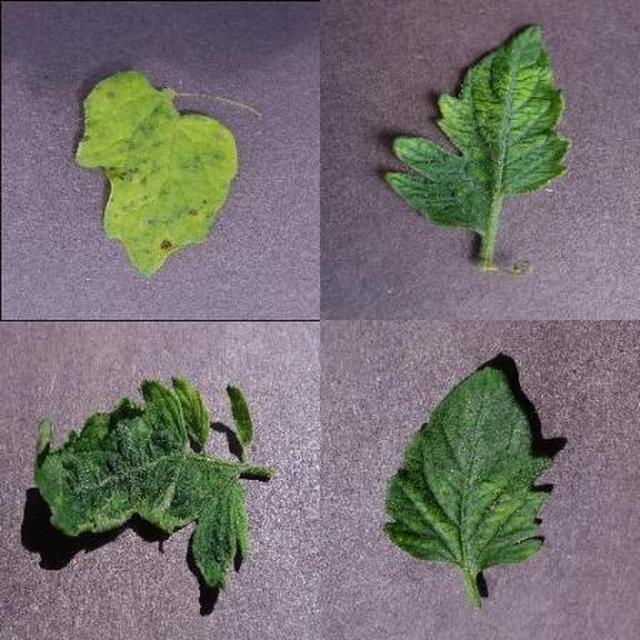Septoria Leaf: (204, 182, 640, 640)
